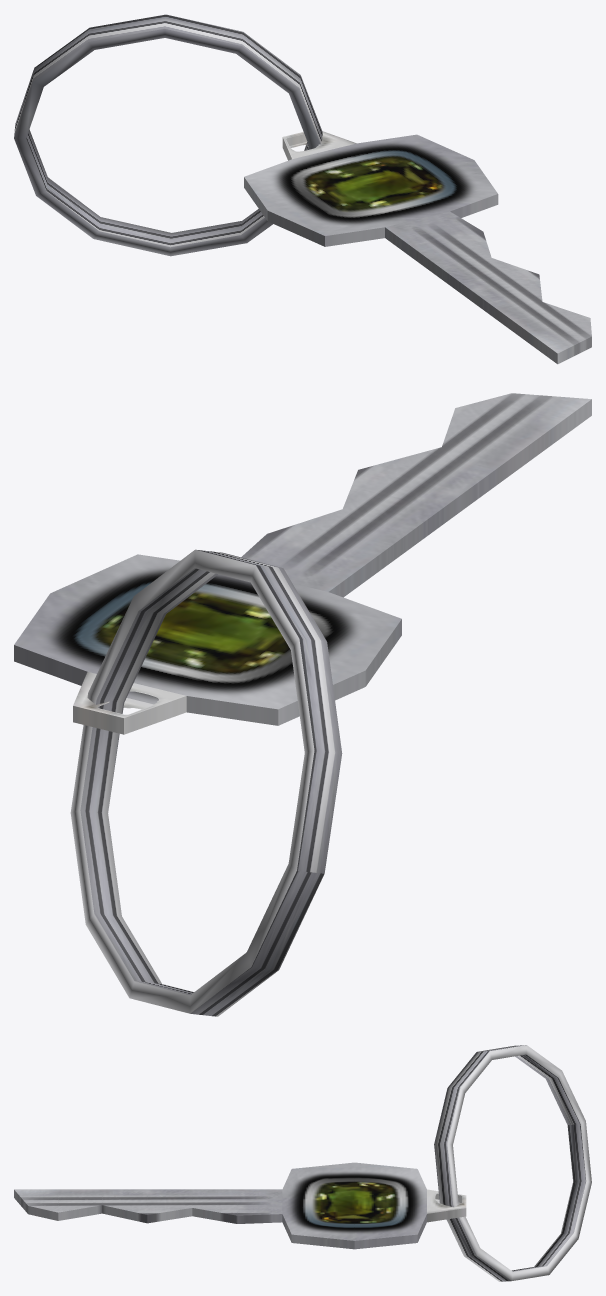
File: key_j_alexandrite.fbx
The picture shows the model from 3 angles, top to bottom: view 1: azimuth 30°, elevation 25°; view 2: azimuth 150°, elevation 25°; view 3: azimuth 270°, elevation 25°; orthographic projection. The views are drawn at different scales.
Parts seen in each view (by area): view 1: key_j_alex; view 2: key_j_alex; view 3: key_j_alex.
Part boxes in pixels (<box>): key_j_alex: <box>14,14,591,364</box>; key_j_alex: <box>14,393,591,1016</box>; key_j_alex: <box>14,1045,591,1281</box>.
Bounding box in the file's own units: 10.09 × 8.2 × 20.3.
1 material, 1 textured.
